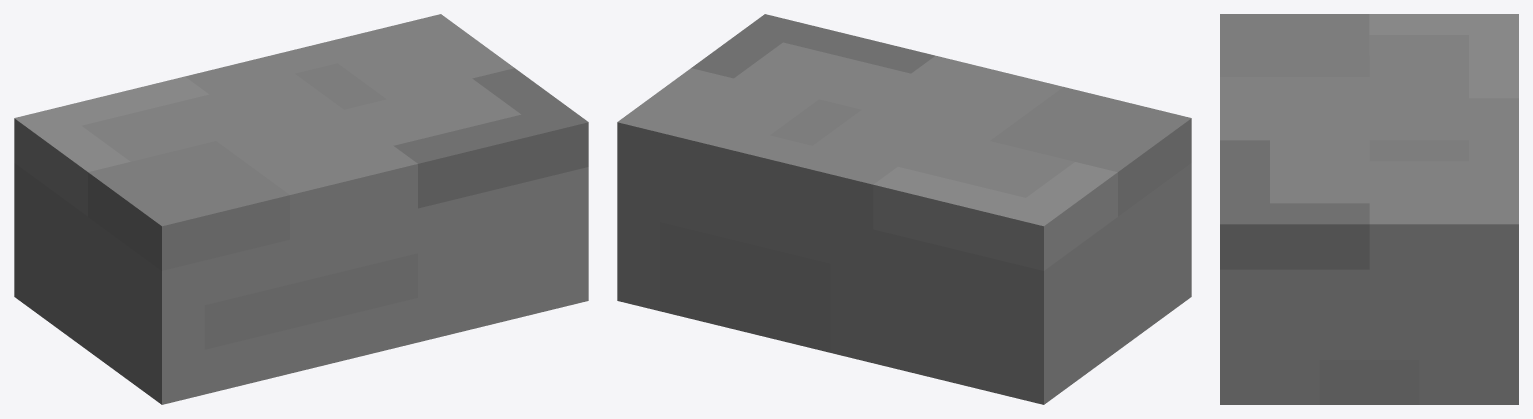
Rendered from Stone.fbx.
3 views of the same model, side by side, from view 1: azimuth 30°, elevation 25°; view 2: azimuth 150°, elevation 25°; view 3: azimuth 270°, elevation 25° (orthographic).
Visible parts, largest first — view 1: Stone; view 2: Stone; view 3: Stone.
Part boxes in pixels (x1,y1,x2,y2): Stone: (14, 14, 588, 404); Stone: (617, 14, 1191, 404); Stone: (1220, 14, 1518, 404).
Size of the model in its own units: 0.2007 by 0.3345 by 0.1338.
Materials: 1 (1 with a texture image).
